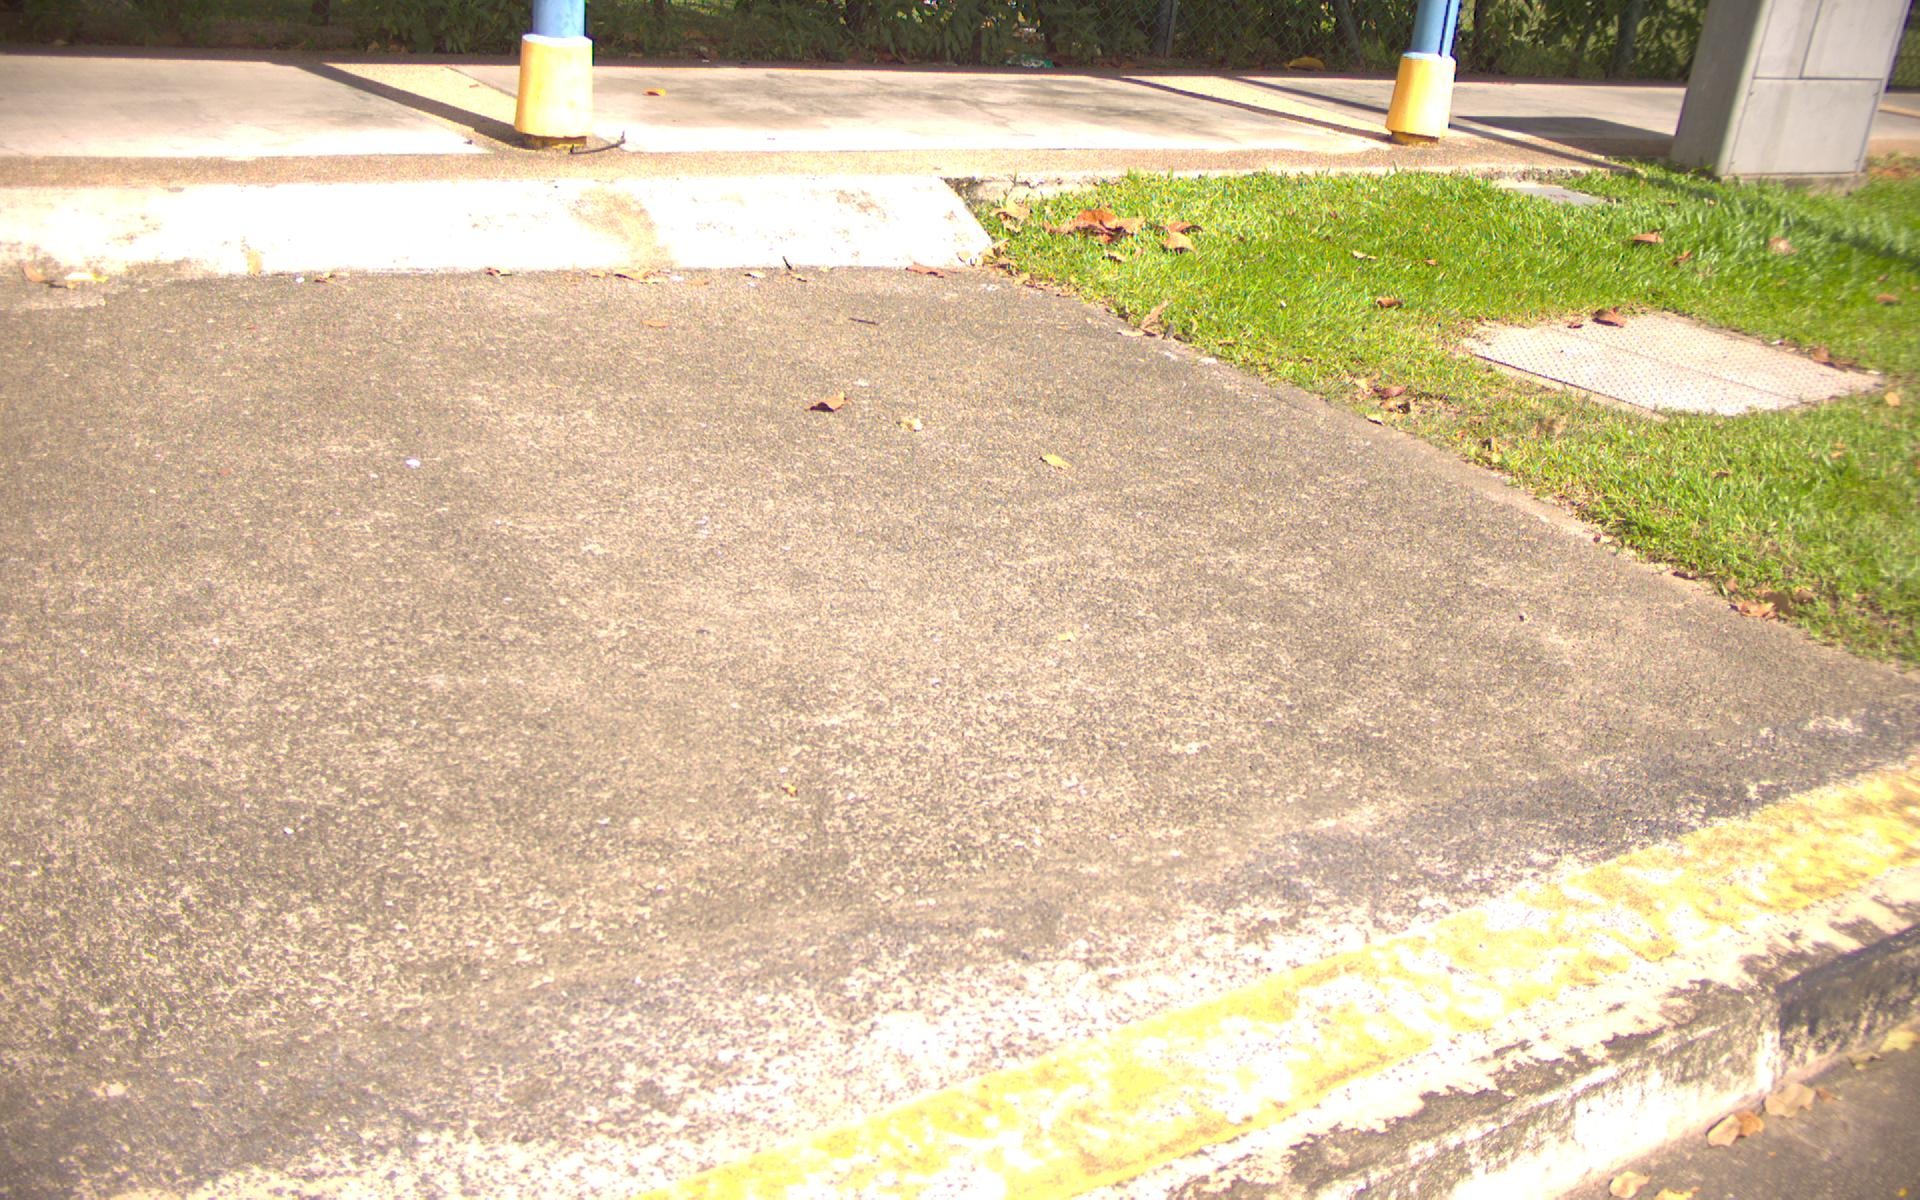pathway_low: (8, 268, 1089, 1200)
road_turf_low: (1375, 184, 1920, 614)
